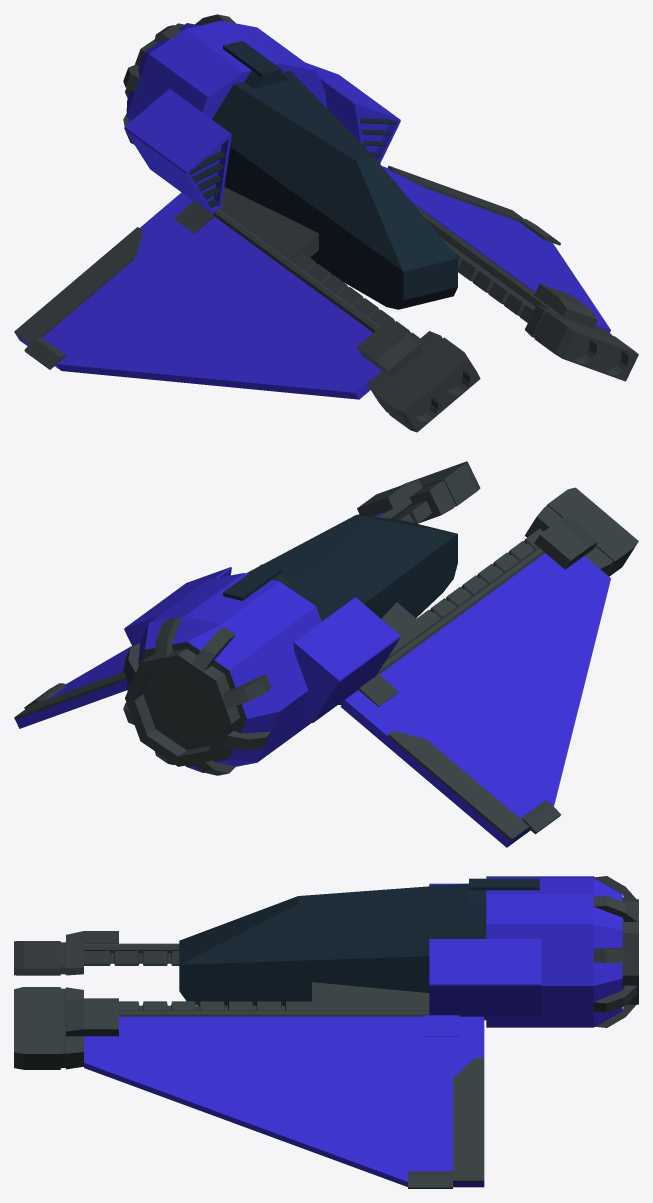
File: SpaceShip2.fbx
The picture shows the model from 3 angles, top to bottom: view 1: azimuth 30°, elevation 25°; view 2: azimuth 150°, elevation 25°; view 3: azimuth 270°, elevation 25°; orthographic projection. The views are drawn at different scales.
Visible parts, largest first — view 1: SpaceShip_3; view 2: SpaceShip_3; view 3: SpaceShip_3.
Boxes of the visible parts, box(x1,y1,x2,y2) form: SpaceShip_3: box(14, 14, 638, 432); SpaceShip_3: box(14, 461, 638, 847); SpaceShip_3: box(14, 876, 638, 1188).
Bounding box in the file's own units: 5.33 × 2.14 × 6.19.
